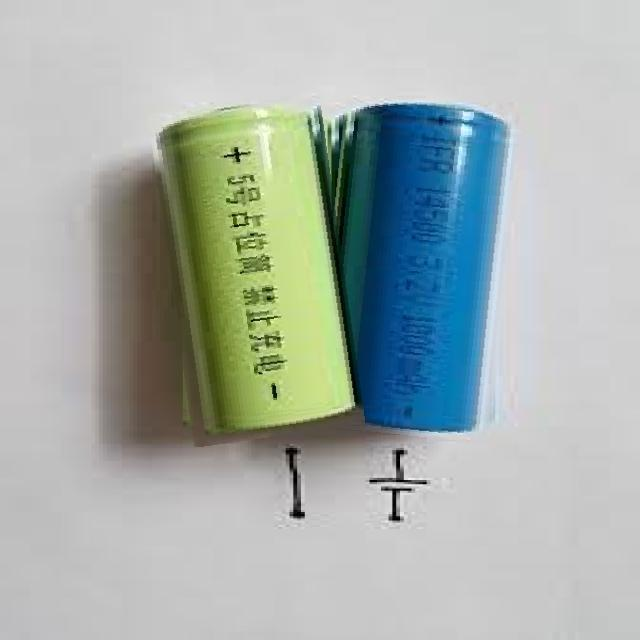Battery: (134, 92, 370, 434), (330, 82, 528, 434)
